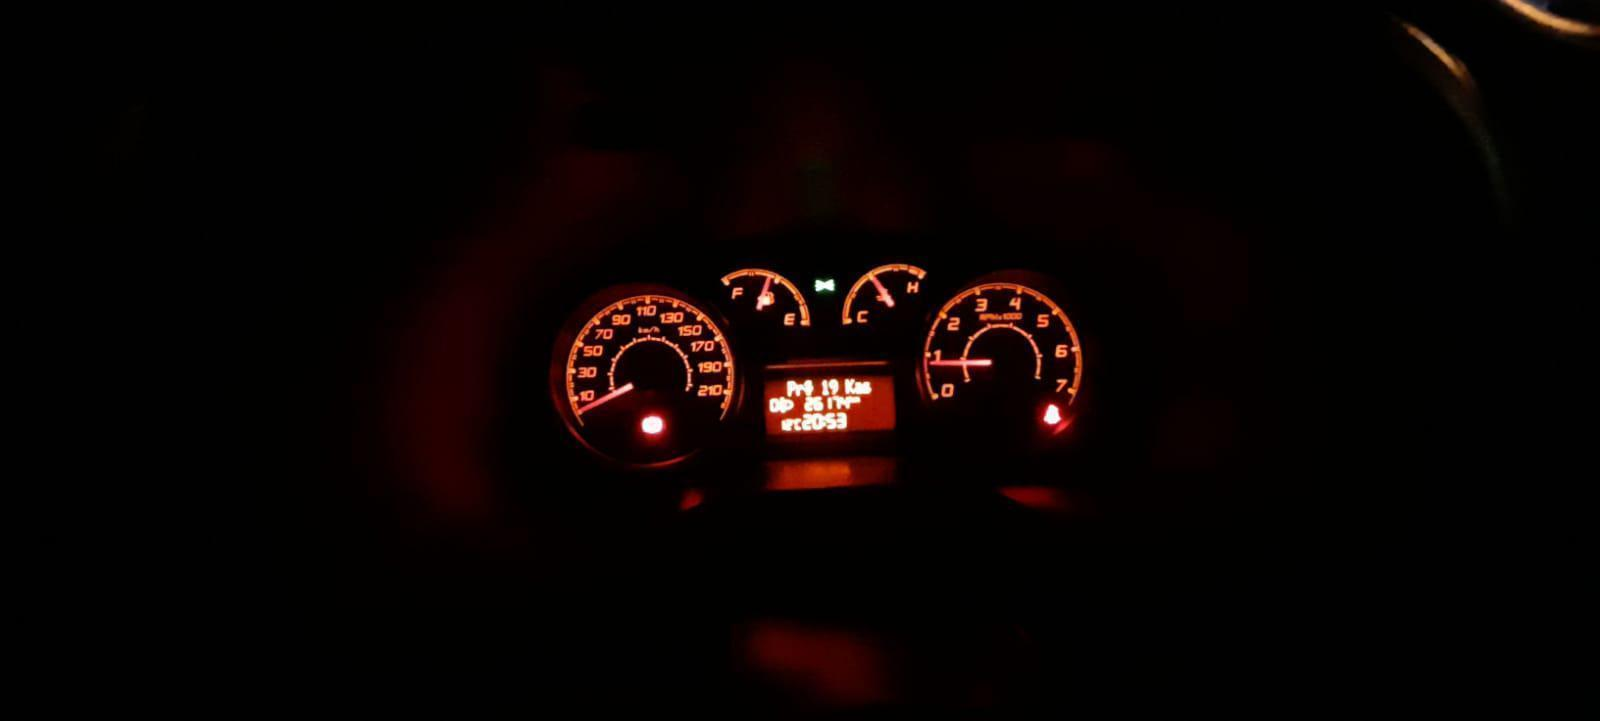0: (812, 413, 823, 430), (769, 397, 779, 413)
1: (820, 379, 829, 395), (826, 396, 832, 410), (781, 418, 784, 432)
2: (802, 413, 811, 431), (803, 396, 813, 412), (784, 417, 792, 431)
3: (836, 411, 848, 430)
4: (841, 395, 851, 410)
5: (824, 411, 836, 430)
6: (813, 396, 824, 411)
7: (832, 395, 841, 410)
9: (828, 378, 839, 395)
X: (855, 381, 872, 394), (844, 377, 855, 394), (803, 378, 813, 395), (785, 379, 795, 396), (793, 418, 801, 431), (850, 396, 862, 404), (795, 383, 802, 396)
odometer: (760, 371, 899, 439)
